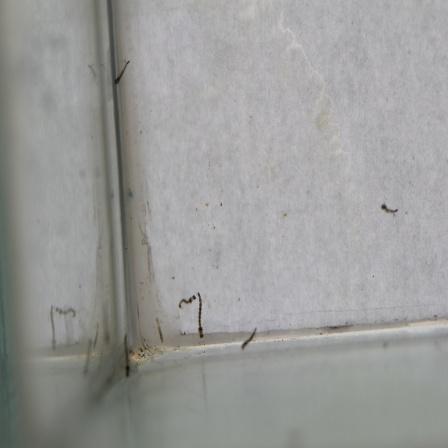Jentik-Nyamuk: (176, 288, 207, 345), (120, 330, 136, 380), (113, 58, 134, 88), (239, 325, 261, 351), (377, 200, 401, 216)
